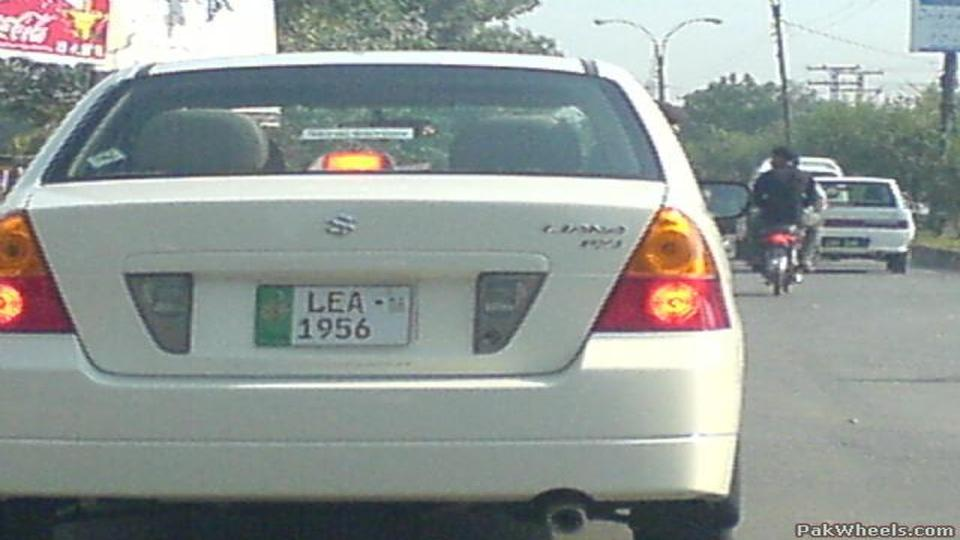NumberPlate: (251, 286, 435, 351)
